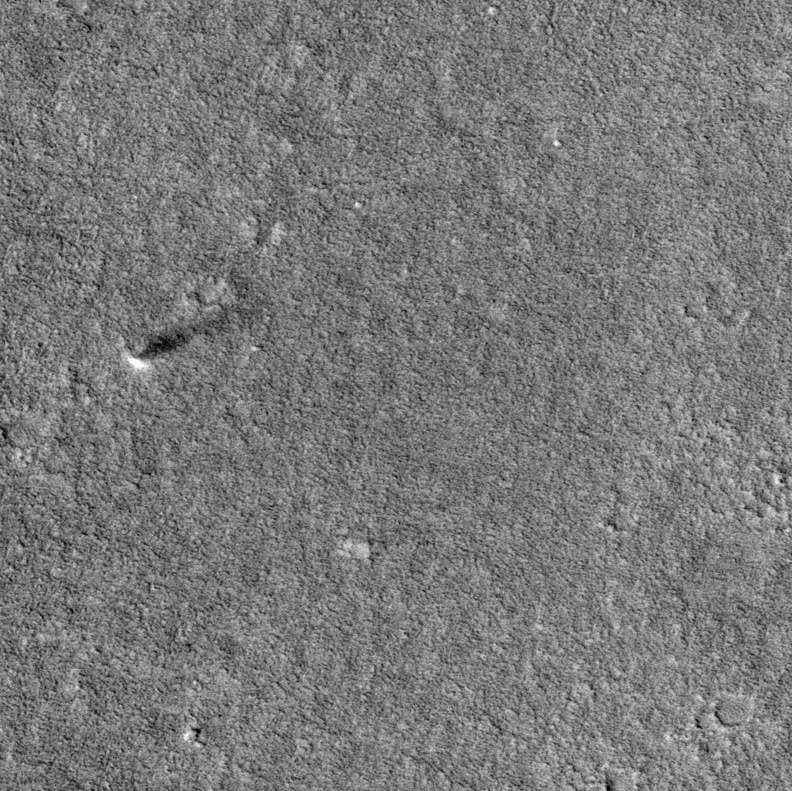dust_devil: (126, 304, 250, 371)
